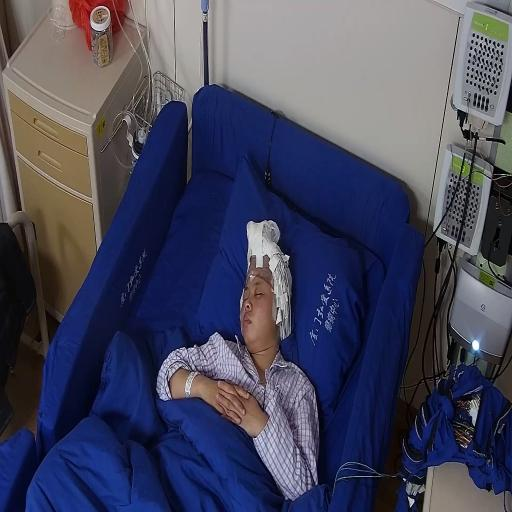Netural: (233, 247, 290, 350)
